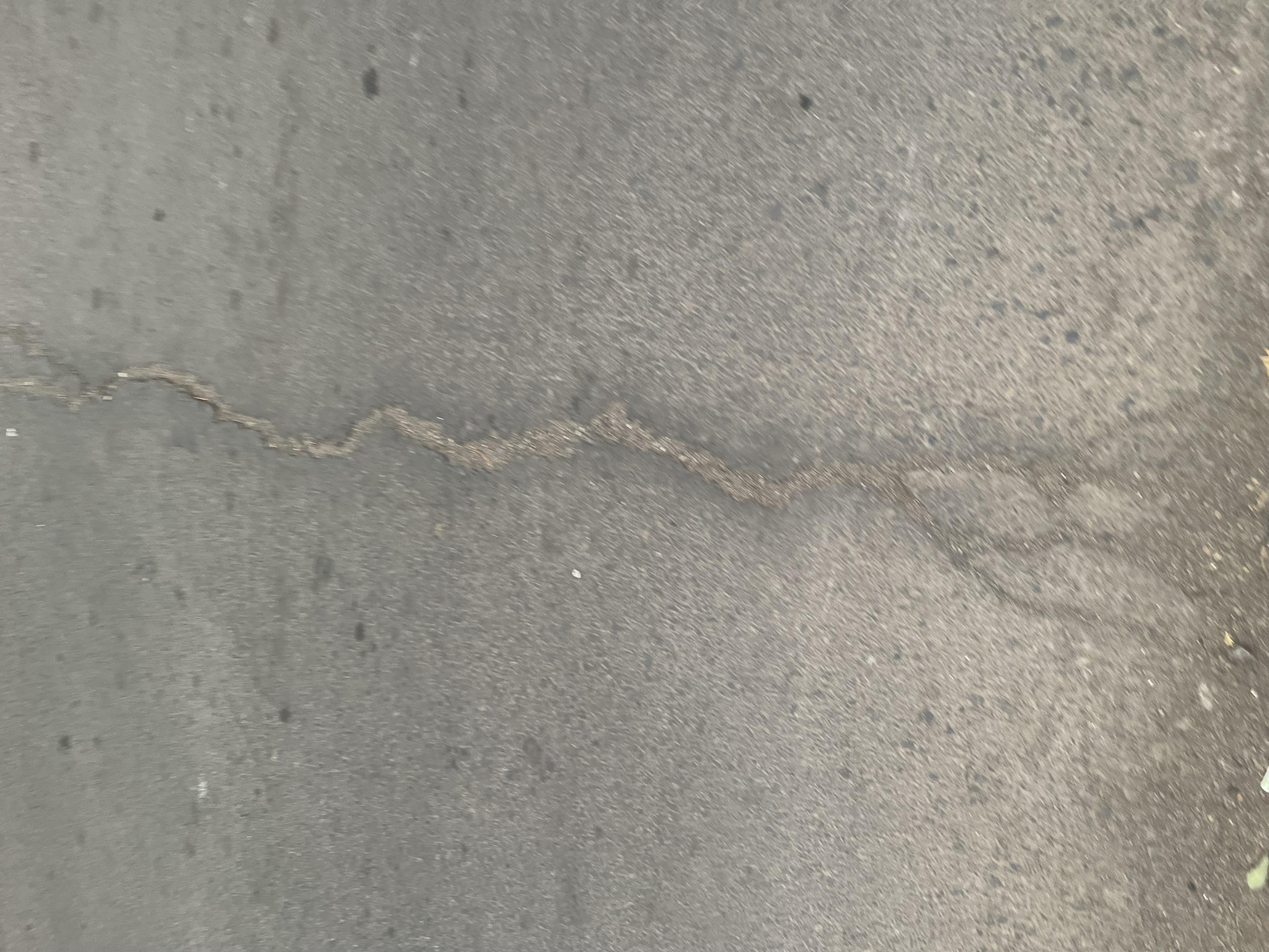GRIETA: (0, 365, 865, 506)
PIEL DE COCODRILO: (874, 369, 1269, 667)
